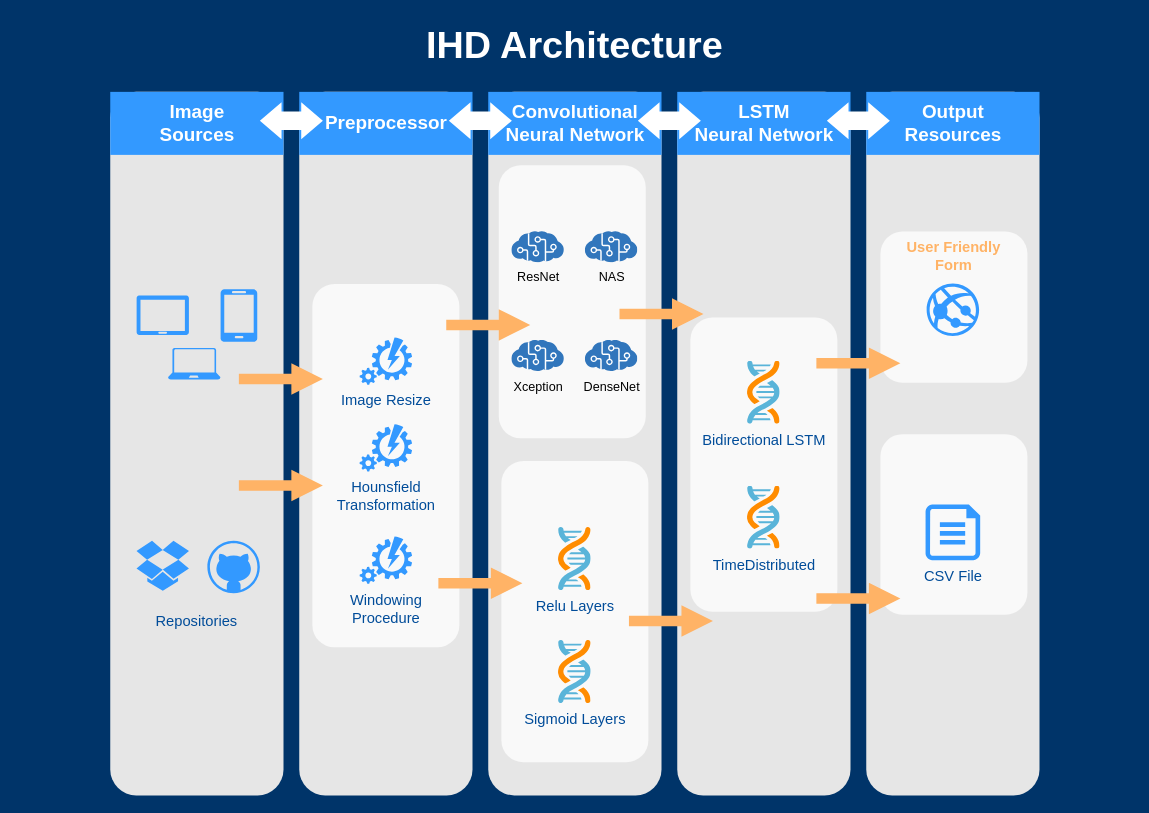
The diagram is 1149 pixels wide and 813 high, and some of its shapes have lost their labels. The box of each missing label's shape, as (x1, y1, x2, y2) in pixels:
Base Model: (498, 165, 645, 438)
Devices: (167, 348, 220, 379)
Prediction Layers: (501, 460, 648, 762)
Preprocessing Mechanisms: (312, 284, 459, 647)
Recurrent Layers: (690, 317, 837, 611)
Text Form: (880, 434, 1027, 614)
Web Service: (926, 283, 979, 335)
